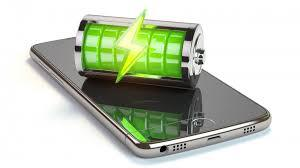Smartphone: (27, 33, 275, 159)
